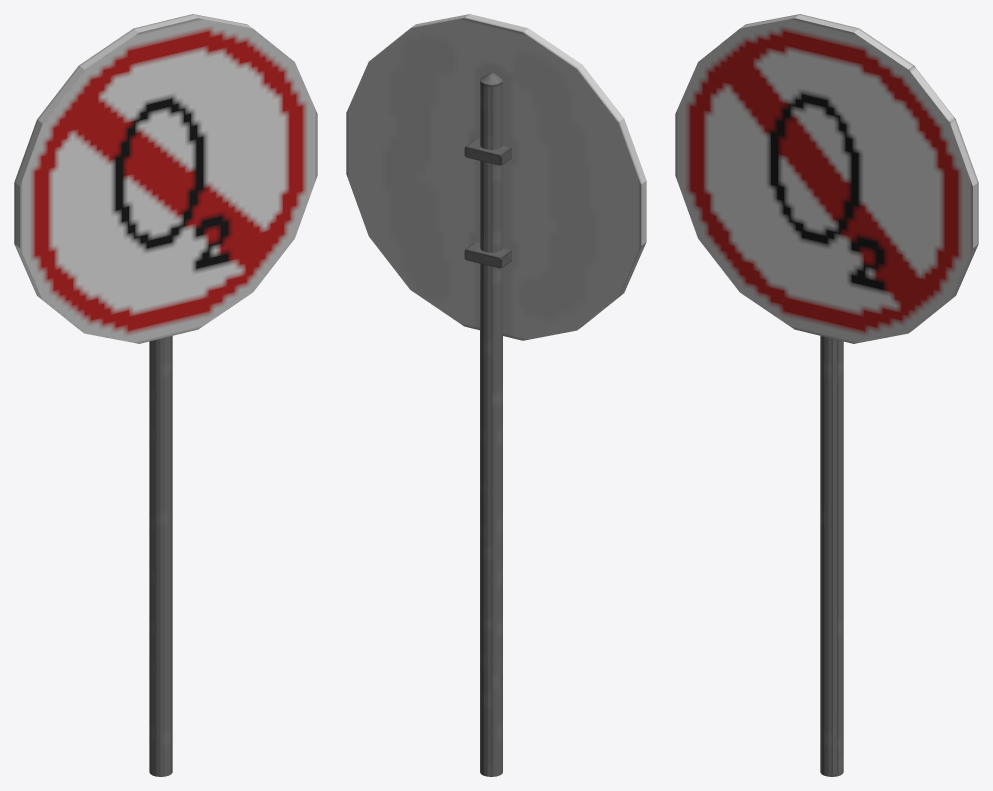
Rendered from lowOxySign.fbx.
3 views of the same model, side by side, from view 1: azimuth 30°, elevation 25°; view 2: azimuth 150°, elevation 25°; view 3: azimuth 330°, elevation 25° (orthographic).
Visible parts, largest first — view 1: sign, pillar; view 2: sign, pillar, backHolder2, backHolder1; view 3: sign, pillar.
Part boxes in pixels (x1,y1,x2,y2): sign: (14,14,317,343); pillar: (149,336,172,776); sign: (346,14,646,340); pillar: (480,72,502,776); backHolder2: (464,242,511,268); backHolder1: (464,139,511,165); sign: (675,14,978,343); pillar: (820,336,843,776).
Bounding box in the file's own units: 75 × 181 × 7.19.
Materials: 1 (1 with a texture image).
